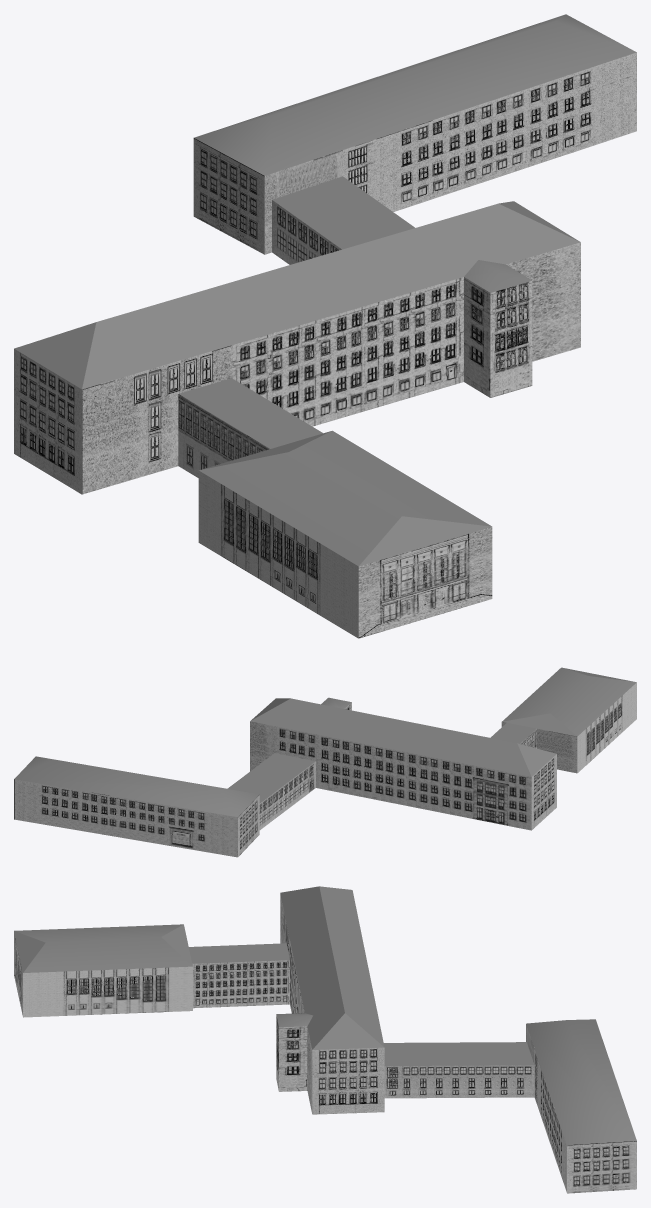
Rendered from Gerhart-Potthoff-Bau.gltf.
The picture shows the model from 3 angles, top to bottom: view 1: azimuth 30°, elevation 25°; view 2: azimuth 150°, elevation 25°; view 3: azimuth 270°, elevation 25°; orthographic projection. The views are drawn at different scales.
Visible parts, largest first — view 1: Dach.1; view 2: Dach.1; view 3: Dach.1.
Boxes of the visible parts, left/top/right/bottom form: Dach.1: left=14, top=14, right=636, bottom=638; Dach.1: left=14, top=667, right=636, bottom=857; Dach.1: left=14, top=886, right=636, bottom=1193.
Size of the model in its own units: 127 by 21 by 140.
Materials: 18 (17 with a texture image).
